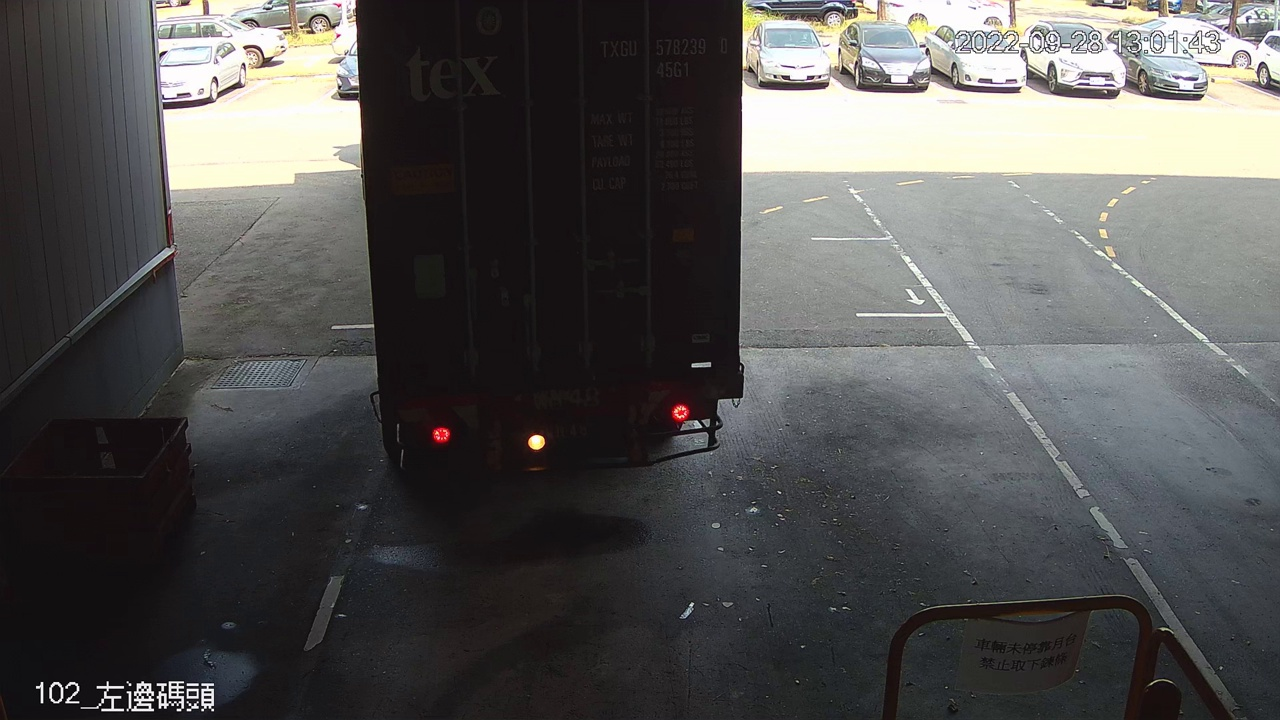container: (593, 33, 734, 82)
